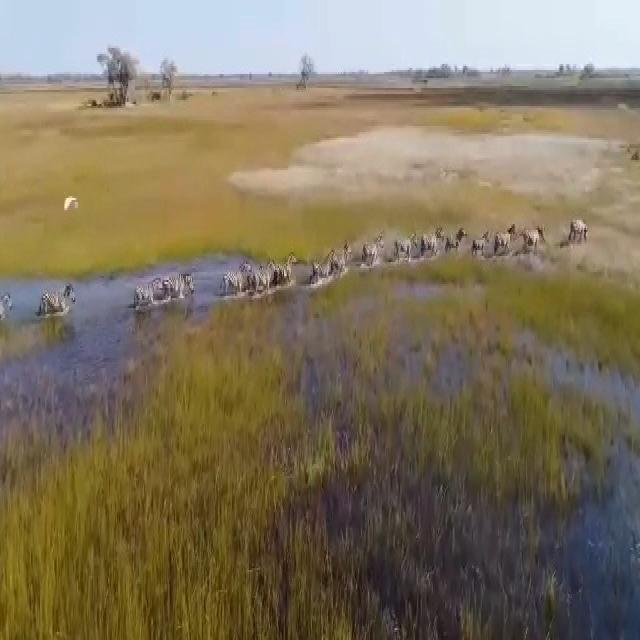Zebra: (127, 270, 197, 314), (562, 210, 600, 252), (32, 286, 78, 319), (357, 236, 387, 272), (244, 265, 276, 295), (277, 249, 299, 290), (306, 254, 336, 282), (390, 231, 420, 259), (443, 228, 473, 256), (519, 230, 552, 255), (493, 226, 516, 261), (222, 268, 250, 296), (470, 229, 492, 263), (0, 284, 16, 330), (334, 239, 354, 273), (422, 232, 444, 258)
